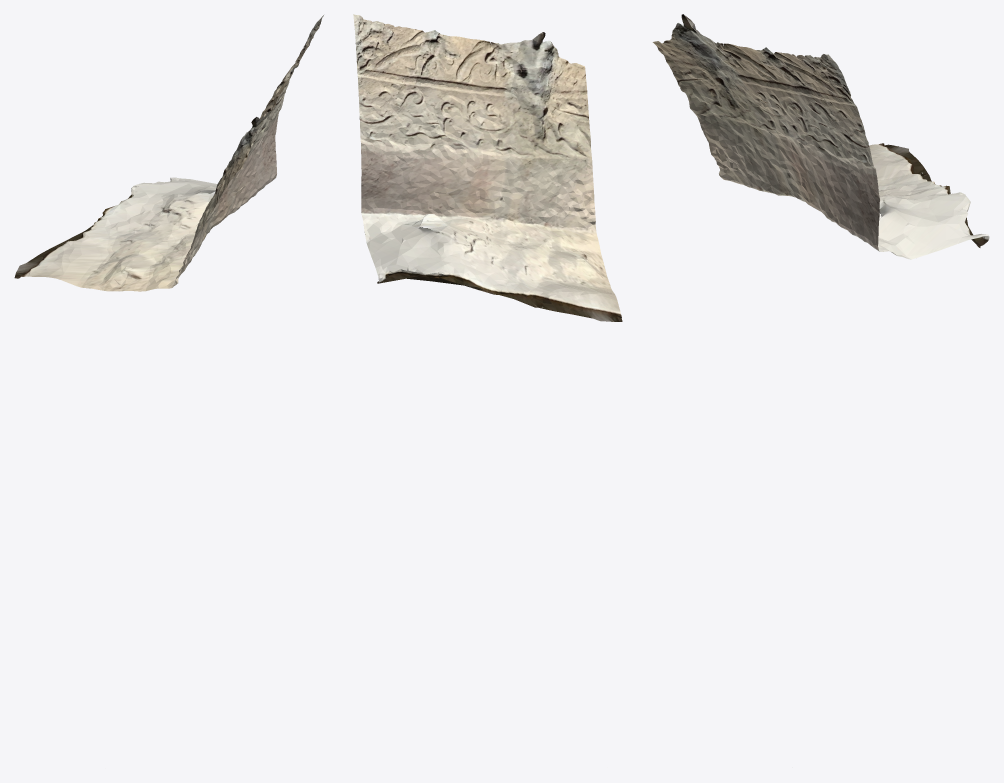
The model's file is tile_5_3.obj.
The picture shows the model from 3 angles, left to right: view 1: azimuth 30°, elevation 25°; view 2: azimuth 150°, elevation 25°; view 3: azimuth 270°, elevation 25°; orthographic projection. The views are drawn at different scales.
Visible parts, largest first — view 1: texture_0; view 2: texture_0; view 3: texture_0.
Part boxes in pixels (x1,y1,x2,y2): texture_0: (14, 15, 323, 291); texture_0: (353, 14, 622, 321); texture_0: (652, 14, 989, 259).
Size of the model in its own units: 0.364 by 0.8359 by 0.2996.
1 material, 1 textured.
